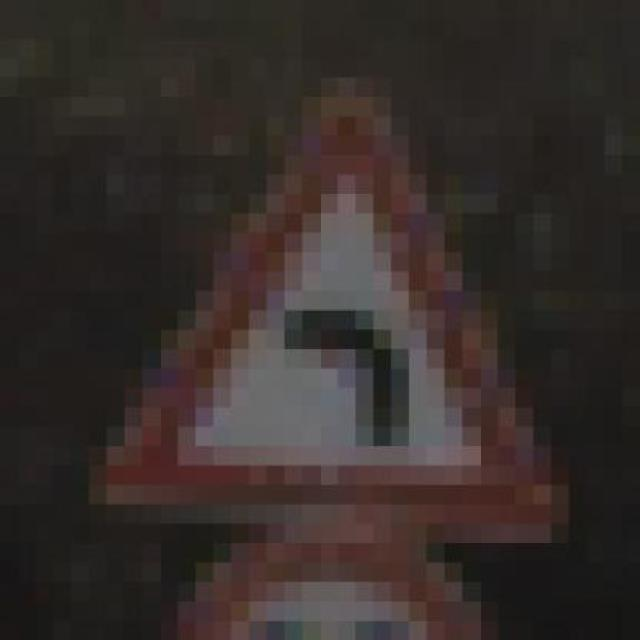Dangerous Left Curve Ahead: (107, 77, 587, 543)
